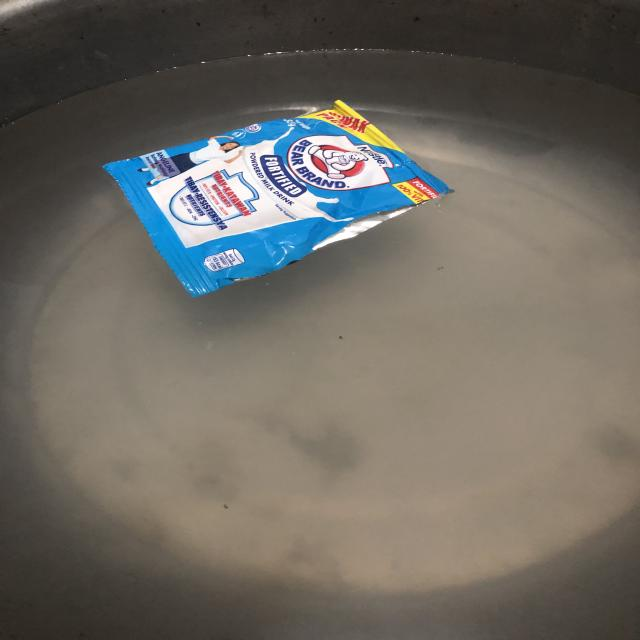Plastic Wrapper: (103, 100, 450, 296)
